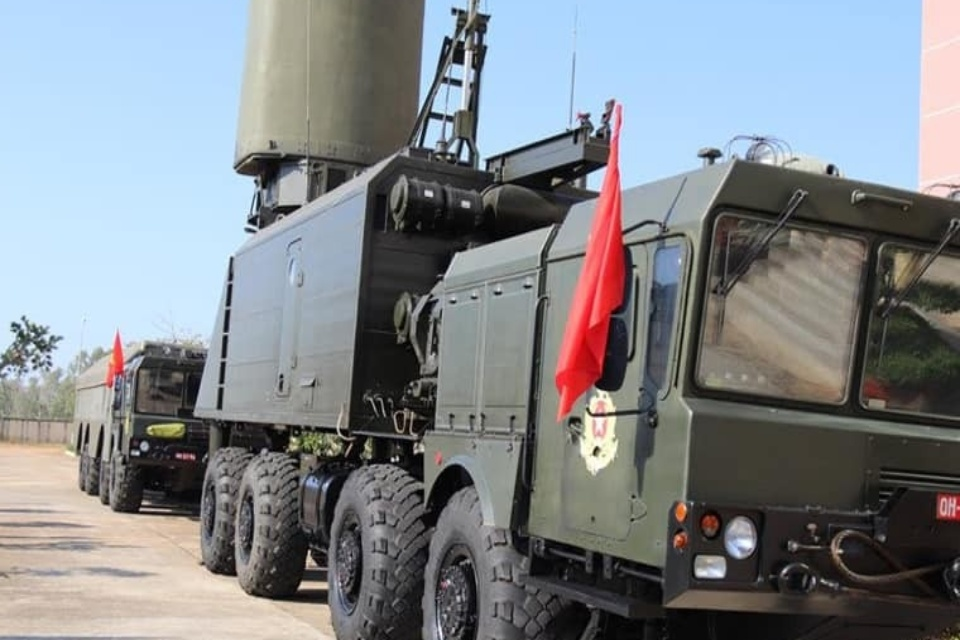plate: (932, 492, 960, 522)
